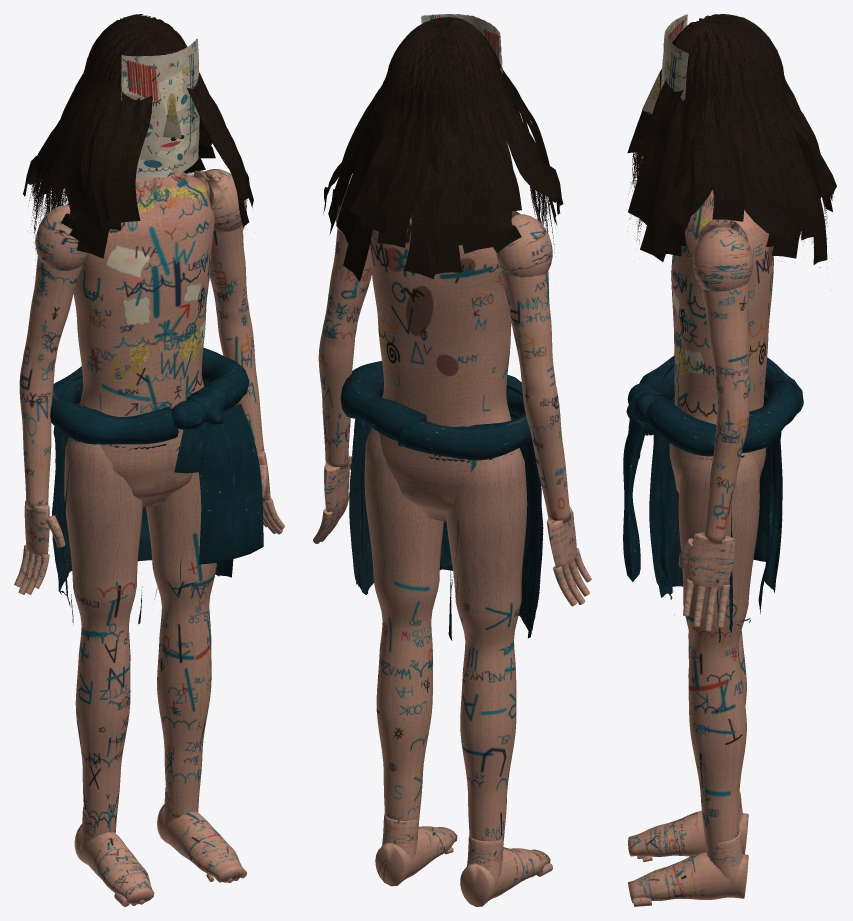
Rendered from siyamak.glb.
3 renders of one model, left to right at view 1: azimuth 30°, elevation 25°; view 2: azimuth 150°, elevation 25°; view 3: azimuth 270°, elevation 25°, orthographic. The views are drawn at different scales.
Visible parts, largest first — view 1: Torso, Leg, HairBase, Leg.001, SleeveEnd, Arm, CollageMask, Arm.001, SleeveRollR, Foot.001, Foot, JacketBody (+8 smaller); view 2: HairBase, Torso, Leg, Leg.001, Arm, JacketBody, Arm.001, SleeveRollR, SleeveRollL, Foot, Foot.001, Deltoid (+6 smaller); view 3: HairBase, Leg.001, Torso, Arm.001, JacketBody, SleeveRollL, Foot.001, Deltoid.001, Foot, SleeveEnd, Palm.001, SleeveRollR (+5 smaller).
Part boxes in pixels (x1,y1,x2,y2): Torso: (73,171,214,507); Leg: (64,437,142,838); HairBase: (23,14,253,258); Leg.001: (146,472,216,819); SleeveEnd: (198,404,263,564); Arm: (19,203,82,509); CollageMask: (122,39,199,178); Arm.001: (193,170,264,453); SleeveRollR: (50,366,178,444); Foot.001: (157,804,244,882); Foot: (74,824,154,904); JacketBody: (52,375,233,625); HairBase: (323,17,563,281); Torso: (368,215,511,521); Leg: (446,448,527,844); Leg.001: (364,427,443,841); Arm: (501,211,570,523); JacketBody: (349,385,543,640); Arm.001: (318,228,371,470); SleeveRollR: (398,375,532,460); SleeveRollL: (340,360,426,440); Foot: (460,847,550,906); Foot.001: (375,826,457,886); Deltoid: (496,214,552,277); HairBase: (627,14,836,264); Leg.001: (678,452,759,865); Torso: (669,189,773,493); Arm.001: (698,219,750,544); JacketBody: (649,364,782,642); SleeveRollL: (646,381,799,456); Foot.001: (628,851,748,901); Deltoid.001: (693,226,752,291); Foot: (628,810,748,856); SleeveEnd: (623,418,647,581); Palm.001: (688,532,734,587); SleeveRollR: (639,356,803,413).
Size of the model in its own units: 0.5913 by 1.83 by 0.422.
5 materials, 5 textured.
